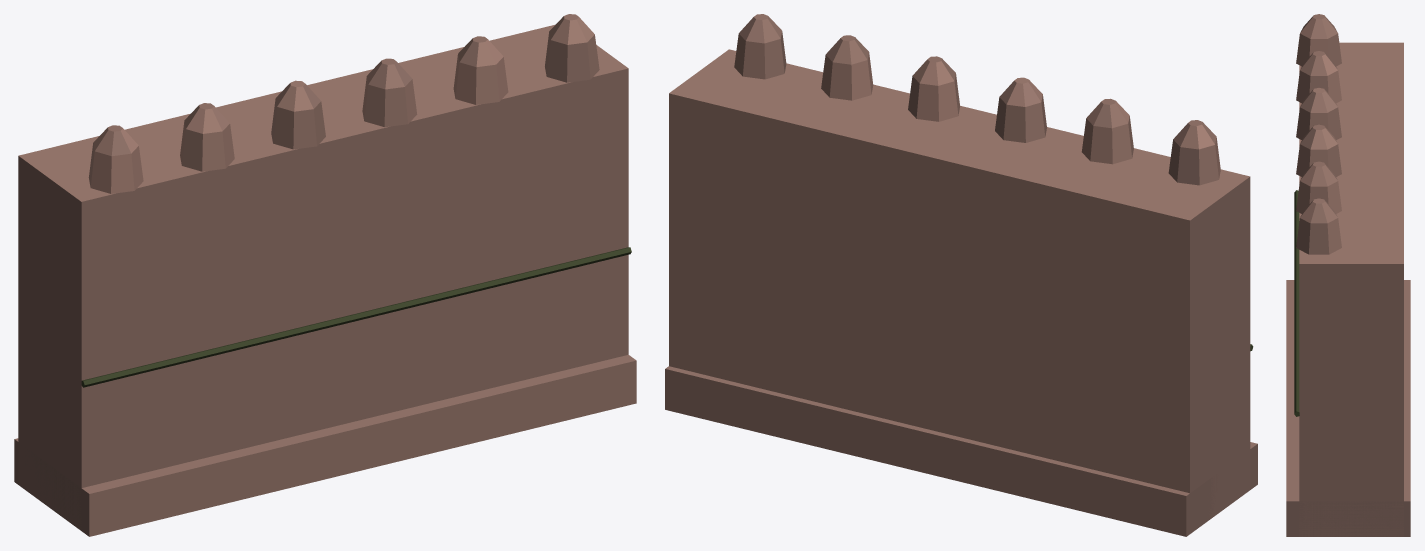
The model's file is walk_reef_wall.glb.
3 renders of one model, left to right at view 1: azimuth 30°, elevation 25°; view 2: azimuth 150°, elevation 25°; view 3: azimuth 270°, elevation 25°, orthographic. The views are drawn at different scales.
Parts seen in each view (by area): view 1: walk_reef_wall; view 2: walk_reef_wall; view 3: walk_reef_wall.
Part boxes in pixels (<box>): walk_reef_wall: <box>14,14,636,536</box>; walk_reef_wall: <box>665,14,1257,536</box>; walk_reef_wall: <box>1286,14,1410,536</box>.
Size of what is drawn, in the model's own units: 8 by 5.35 by 1.9.
Materials: 1 (1 with a texture image).
